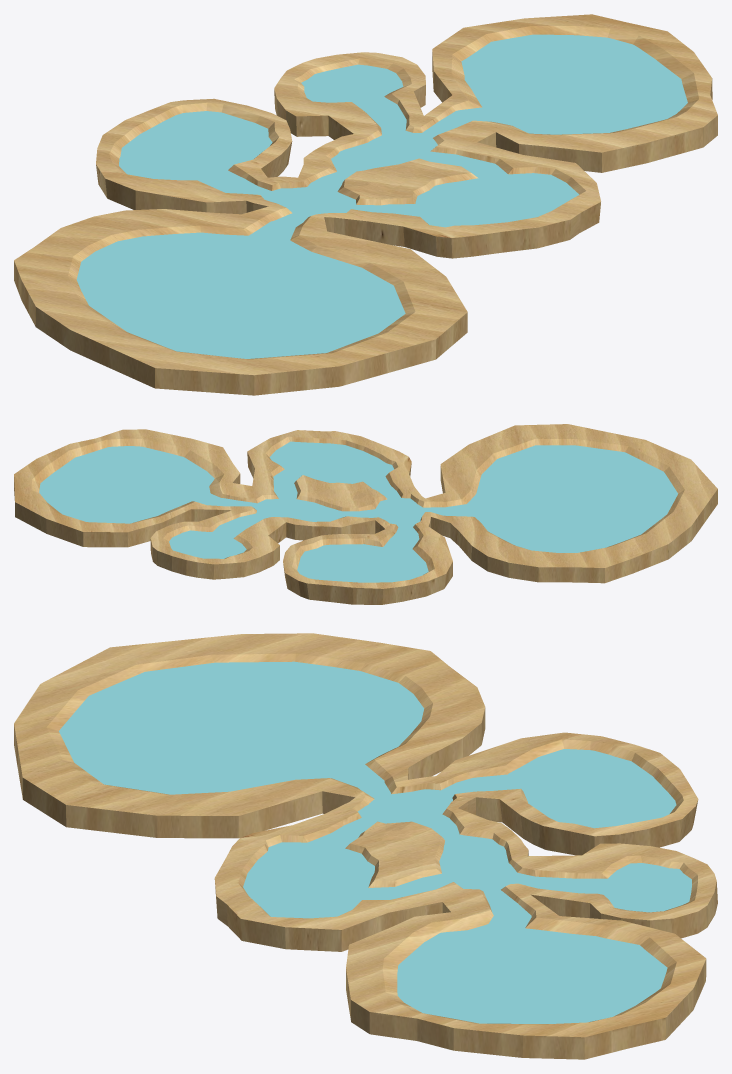
Rendered from MainMap3.fbx.
3 renders of one model, top to bottom at view 1: azimuth 30°, elevation 25°; view 2: azimuth 150°, elevation 25°; view 3: azimuth 270°, elevation 25°, orthographic. The views are drawn at different scales.
Parts seen in each view (by area): view 1: LakeEdge, Area 4, Area 2, Area 3.2, Area 3.1, Area Intersection 1, Area 1, Area Intersection 2; view 2: LakeEdge, Area 4, Area 2, Area 3.2, Area 3.1, Area Intersection 1, Area 1, Area Intersection 2, Area 1/2.001; view 3: LakeEdge, Area 4, Area 2, Area 3.2, Area 3.1, Area Intersection 1, Area 1, Area Intersection 2.
Part boxes in pixels (x1,y1,x2,y2): LakeEdge: (14, 14, 717, 395); Area 4: (76, 231, 405, 358); Area 2: (461, 34, 687, 134); Area 3.2: (119, 111, 272, 186); Area 3.1: (408, 170, 579, 227); Area Intersection 1: (329, 126, 443, 179); Area 1: (301, 64, 403, 105); Area Intersection 2: (259, 184, 367, 217); LakeEdge: (14, 424, 717, 604); Area 4: (458, 445, 677, 552); Area 2: (39, 446, 214, 523); Area 3.2: (297, 542, 428, 582); Area 3.1: (269, 441, 394, 485); Area Intersection 1: (245, 494, 353, 521); Area 1: (169, 530, 246, 558); Area Intersection 2: (371, 494, 425, 529); Area 1/2.001: (220, 516, 260, 530); LakeEdge: (14, 633, 717, 1059); Area 4: (59, 661, 424, 794); Area 2: (397, 921, 667, 1023); Area 3.2: (494, 749, 676, 828); Area 3.1: (243, 840, 379, 918); Area Intersection 1: (432, 830, 526, 897); Area 1: (596, 863, 691, 912); Area Intersection 2: (351, 787, 455, 828).
Bounding box in the file's own units: 194 × 6.59 × 143.
